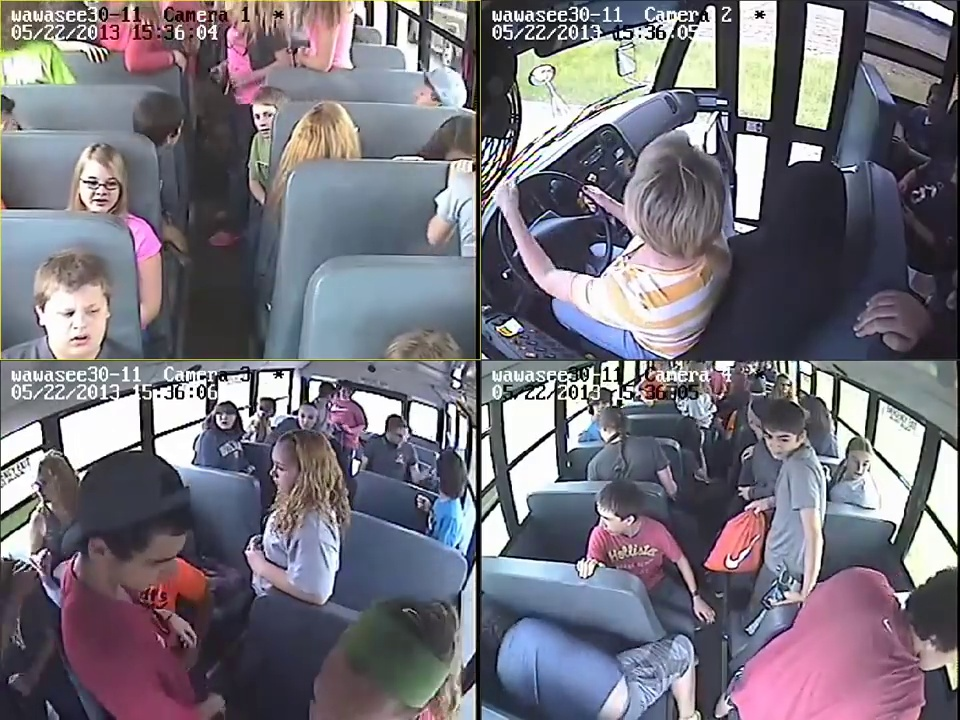face: (45, 292, 105, 355), (132, 533, 187, 595), (78, 159, 121, 212), (267, 443, 294, 491), (763, 429, 801, 462), (594, 501, 620, 541), (843, 452, 874, 480), (255, 102, 279, 136), (211, 411, 236, 431), (777, 376, 792, 394), (299, 411, 313, 430)
